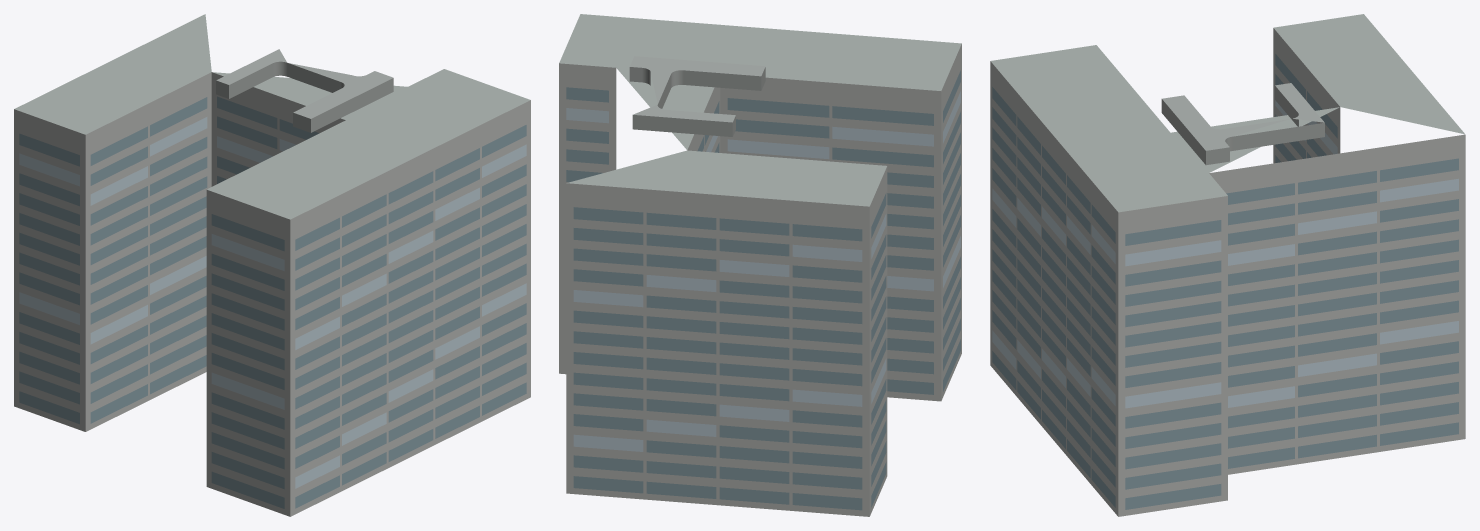
File: apt-a10024819.glb
3 views of the same model, side by side, from view 1: azimuth 30°, elevation 25°; view 2: azimuth 150°, elevation 25°; view 3: azimuth 270°, elevation 25° (orthographic). The views are drawn at different scales.
Parts seen in each view (by area): view 1: apt-a10024819; view 2: apt-a10024819; view 3: apt-a10024819.
Boxes of the visible parts, bbox=[...] form: apt-a10024819: bbox=[14, 14, 530, 516]; apt-a10024819: bbox=[559, 14, 961, 516]; apt-a10024819: bbox=[990, 14, 1465, 516].
Size of the model in its own units: 53.38 by 40 by 54.02.
